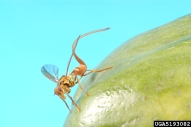Fruit fly: (37, 34, 105, 108)
